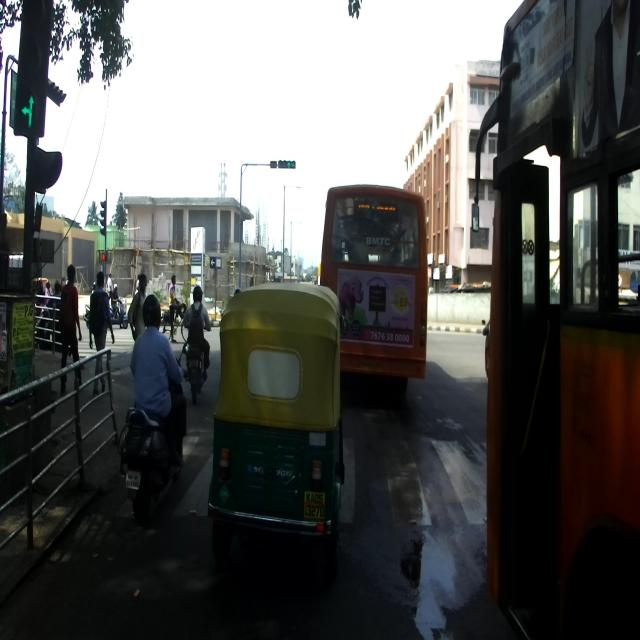autorickshaw: (207, 283, 345, 576)
bus: (472, 0, 640, 638), (320, 183, 428, 392)
motorcycle: (182, 320, 212, 404)
scooter: (118, 341, 190, 527), (108, 296, 128, 328)
